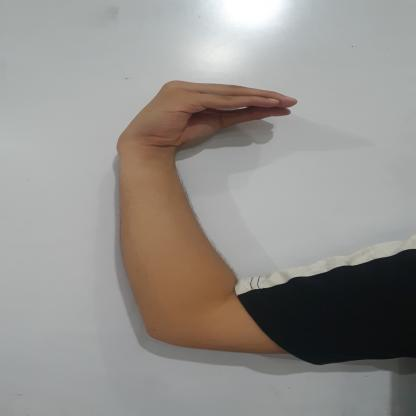Malam: (105, 72, 314, 181)
